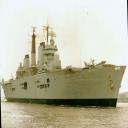Portanaves: (1, 20, 127, 111)
